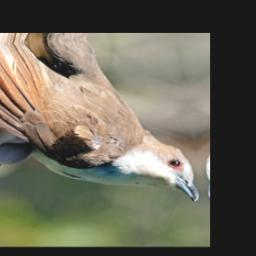Cuckoo: (0, 33, 199, 215)
